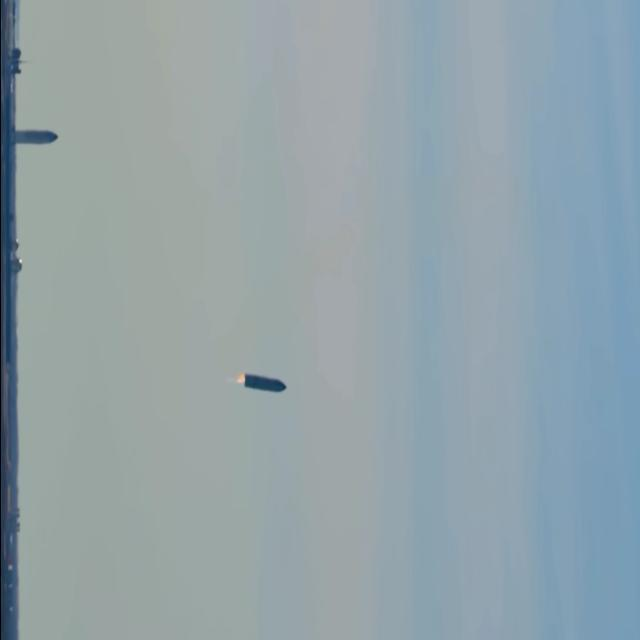Missile: (241, 367, 292, 398)
